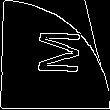M_W: (28, 31, 82, 79)
